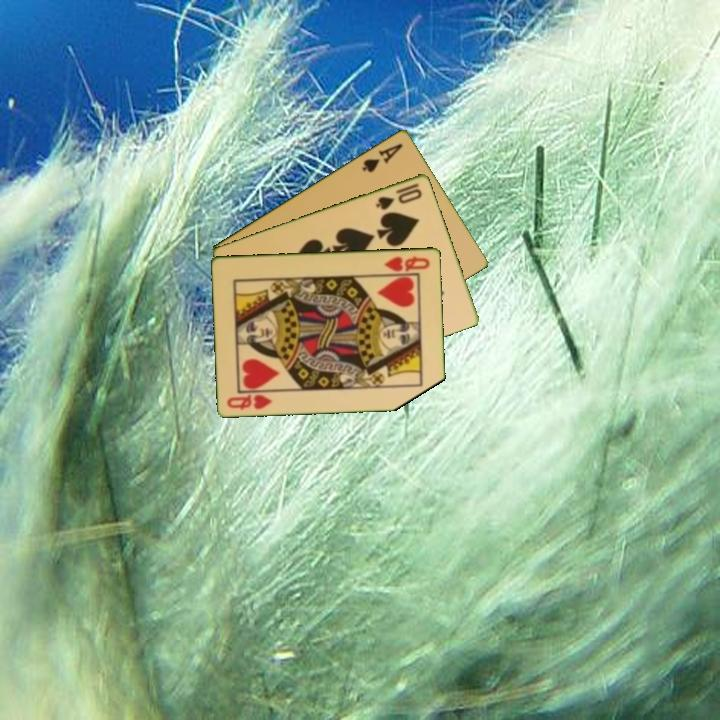10s: (372, 180, 425, 213)
As: (358, 139, 406, 175)
Qh: (381, 252, 433, 274), (224, 390, 275, 412)
